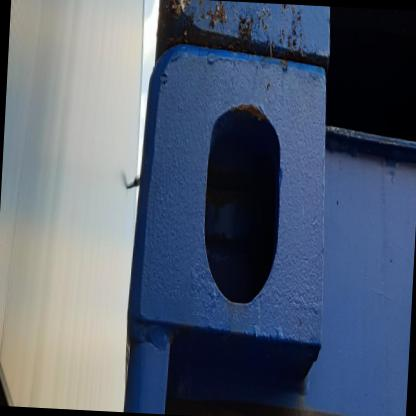CornerCasting: (120, 54, 332, 351)
